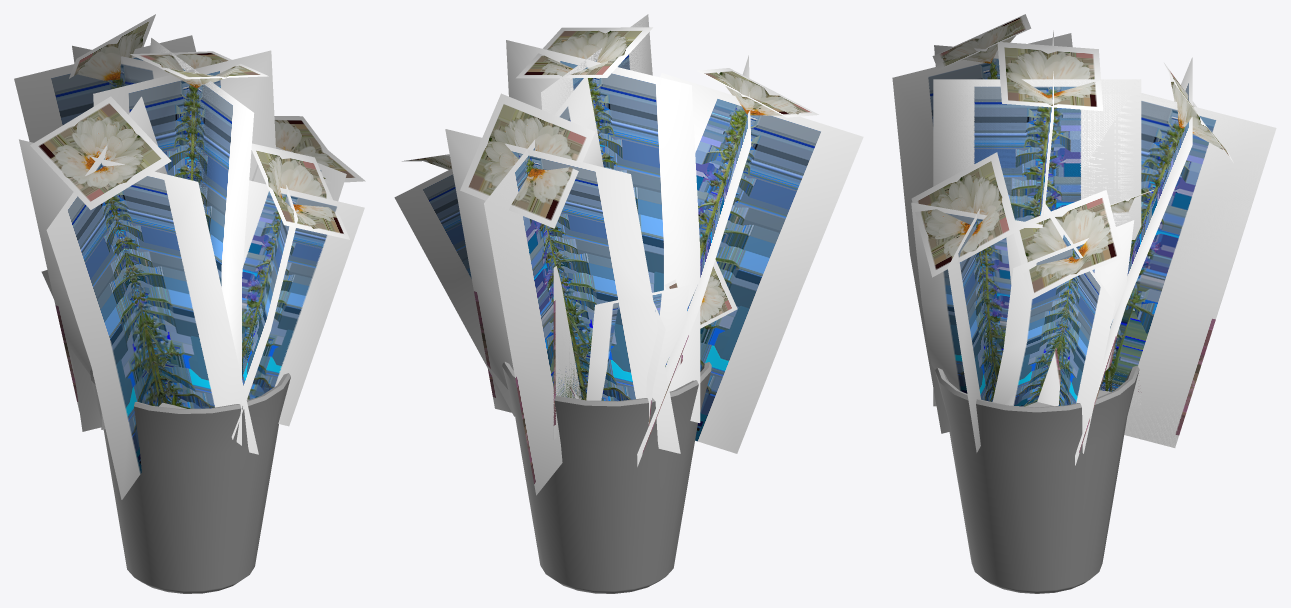
The model's file is plant_2.fbx.
3 renders of one model, left to right at view 1: azimuth 30°, elevation 25°; view 2: azimuth 150°, elevation 25°; view 3: azimuth 270°, elevation 25°, orthographic. The views are drawn at different scales.
Parts seen in each view (by area): view 1: flowers, pot; view 2: flowers, pot; view 3: flowers, pot.
Boxes of the visible parts, box(x1,y1,x2,y2) form: flowers: box(14, 14, 365, 499); pot: box(90, 369, 290, 593); flowers: box(394, 14, 863, 495); pot: box(502, 361, 711, 593); flowers: box(892, 14, 1276, 465); pot: box(935, 365, 1139, 593).
Size of the model in its own units: 67.53 by 90.07 by 60.77.
